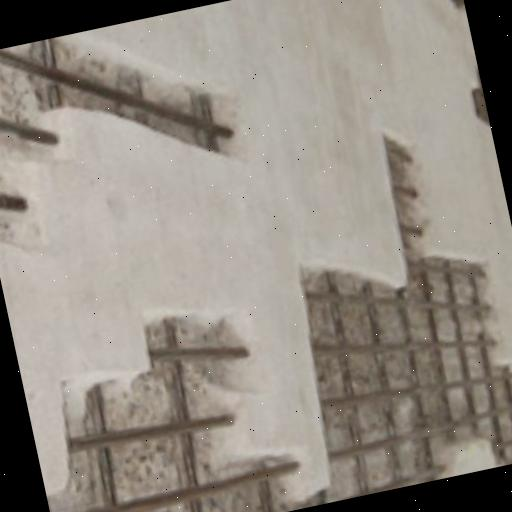spalling: (300, 138, 512, 507), (46, 313, 304, 512), (0, 37, 241, 243)
